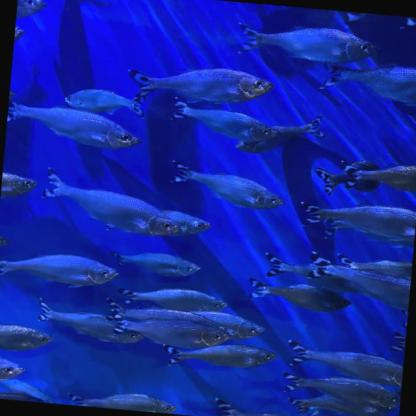fish: (39, 166, 186, 240), (123, 59, 275, 113), (6, 96, 144, 154), (233, 19, 382, 71), (100, 296, 238, 346), (164, 158, 288, 212), (305, 249, 412, 311), (290, 194, 415, 242), (282, 339, 404, 386), (166, 95, 278, 146), (32, 296, 146, 346), (0, 247, 120, 293), (108, 310, 232, 351), (278, 371, 402, 412), (318, 58, 416, 108), (235, 107, 324, 161), (160, 338, 278, 376), (245, 276, 352, 316), (114, 282, 230, 314), (108, 248, 203, 282), (335, 157, 415, 197), (183, 305, 267, 343), (65, 386, 179, 414), (63, 84, 147, 119), (334, 253, 412, 281), (154, 208, 212, 241), (0, 322, 55, 356), (212, 399, 326, 415), (260, 251, 317, 279), (0, 170, 38, 204), (310, 166, 346, 198), (0, 352, 27, 388), (15, 0, 50, 23), (13, 25, 25, 47)
